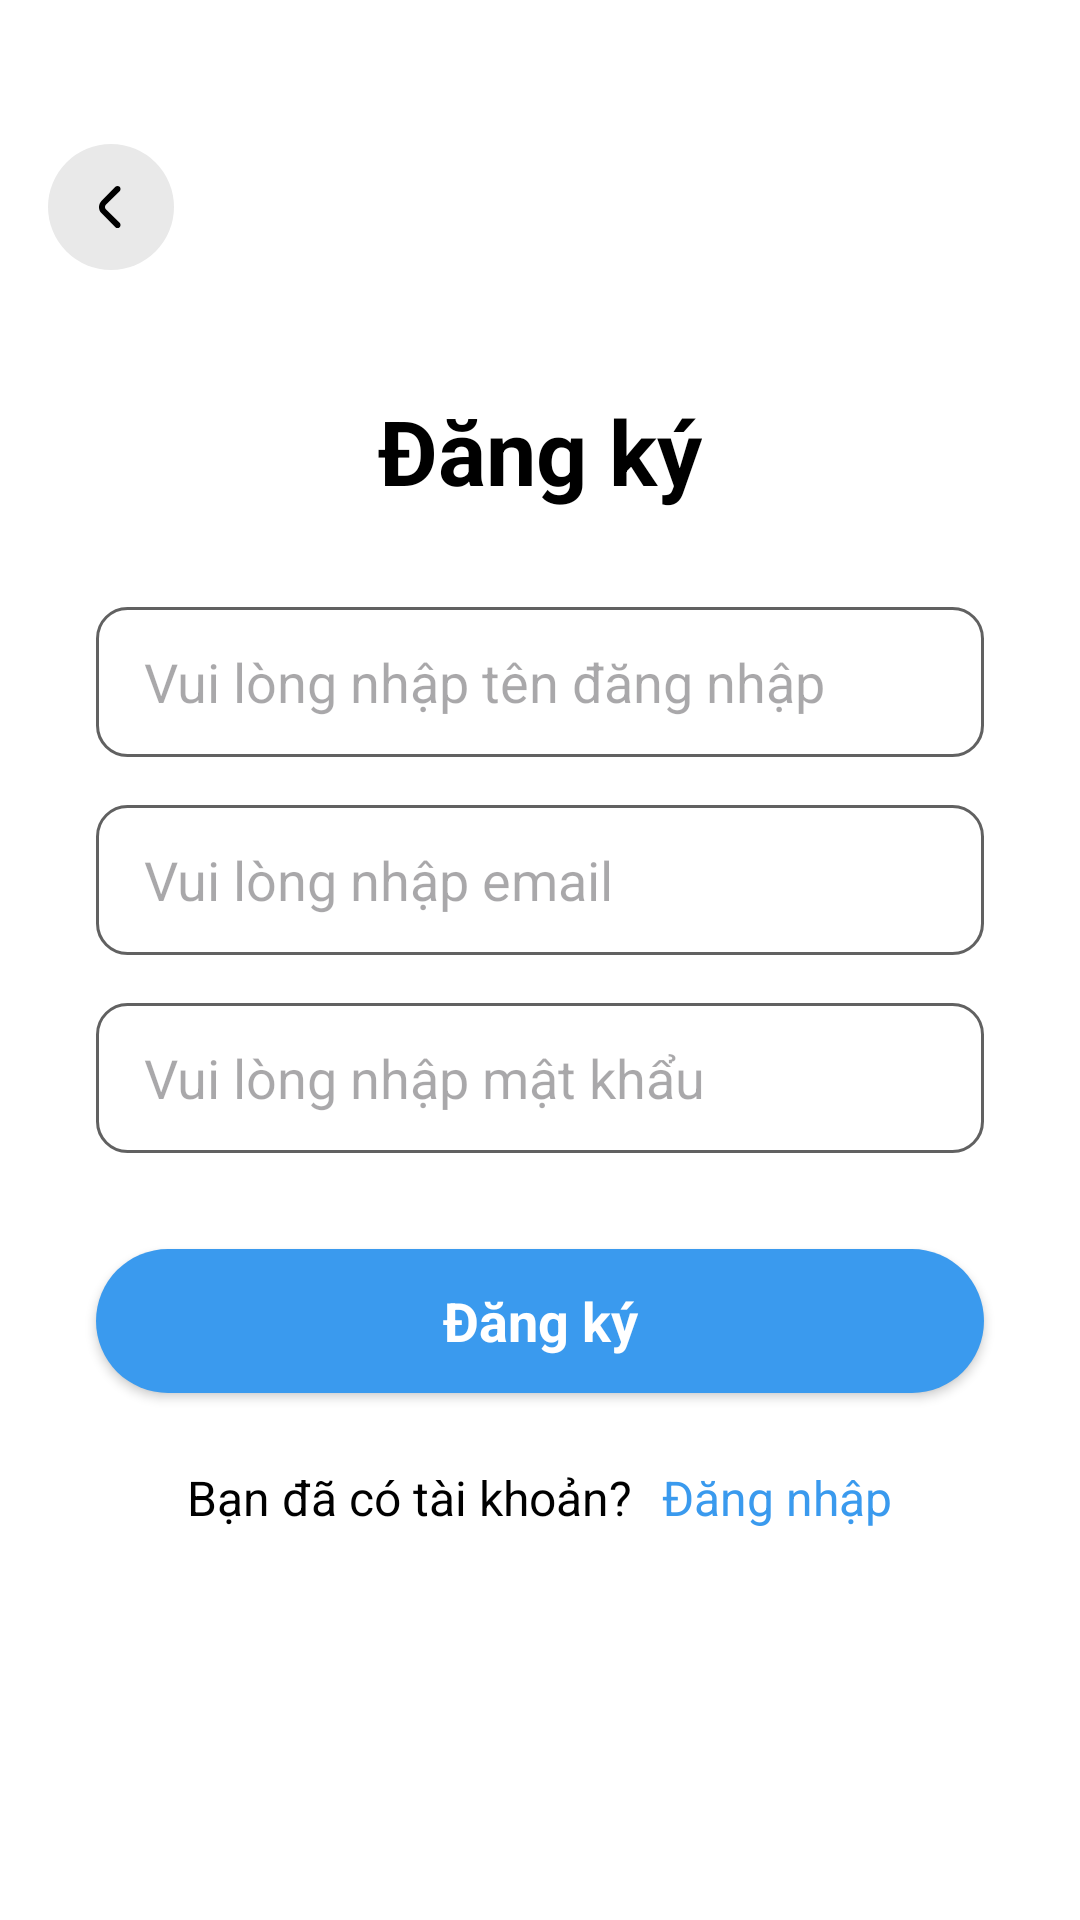

Icon click points for this 1080px×1920px phone screenshot, format [x,y]:
back: [111,207]
